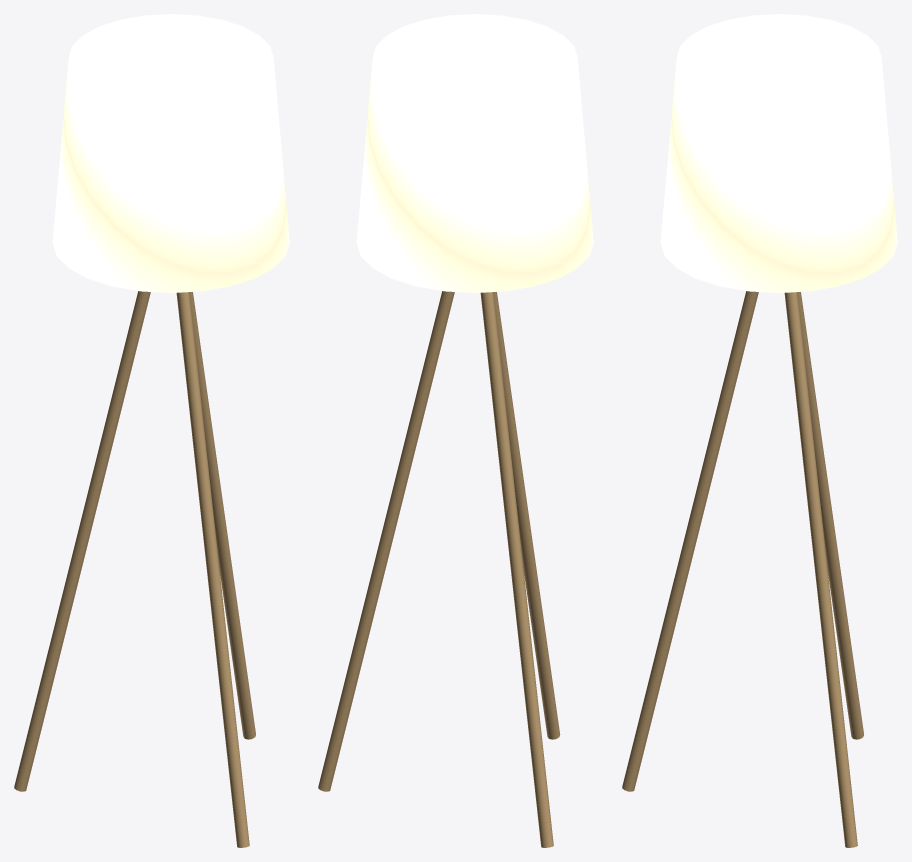
File: i_flamp_2.glb
3 views of the same model, side by side, from view 1: azimuth 30°, elevation 25°; view 2: azimuth 150°, elevation 25°; view 3: azimuth 270°, elevation 25° (orthographic).
Parts seen in each view (by area): view 1: o.003, o.002, o.001, o; view 2: o.003, o.001, o, o.002; view 3: o.003, o, o.002, o.001.
Part boxes in pixels (x1,y1,x2,y2): o.003: (52,14,289,292); o.002: (176,292,249,847); o.001: (14,291,150,791); o: (189,292,255,739); o.003: (356,14,593,292); o.001: (480,292,553,847); o: (318,291,454,791); o.002: (493,292,560,739); o.003: (660,14,897,292); o: (784,292,857,847); o.002: (622,291,758,791); o.001: (797,292,863,739).
Bounding box in the file's own units: 0.5078 × 1.5 × 0.5111.
